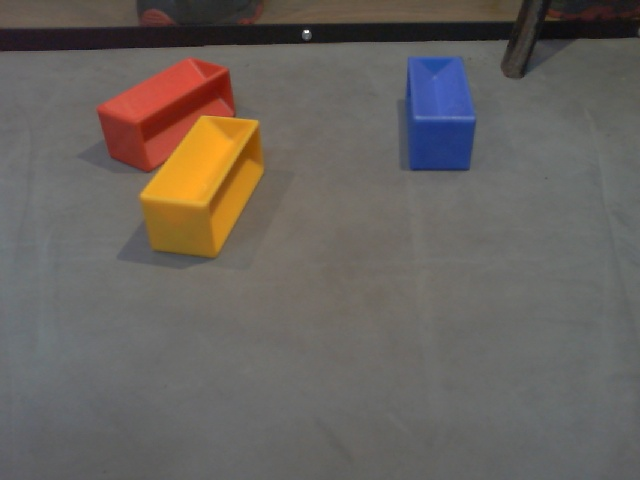BlueSample: (401, 53, 479, 176)
RedSample: (96, 56, 236, 172)
YellowSample: (138, 113, 266, 263)
